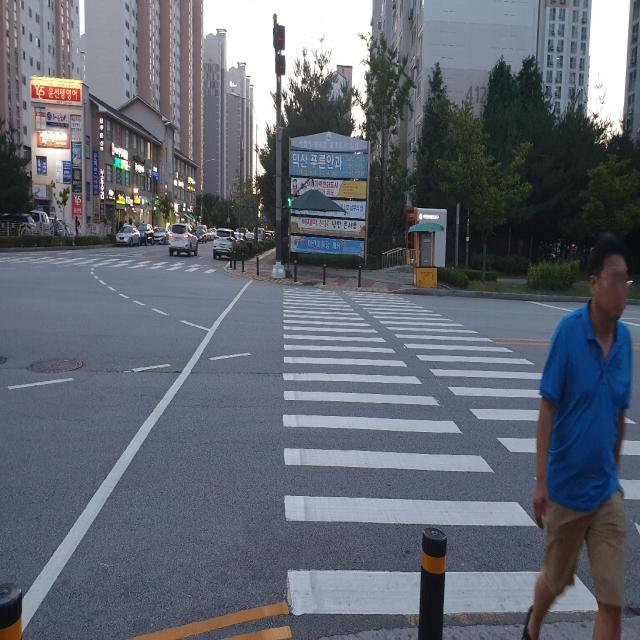횡단보도: (282, 290, 640, 617), (0, 253, 220, 275)
